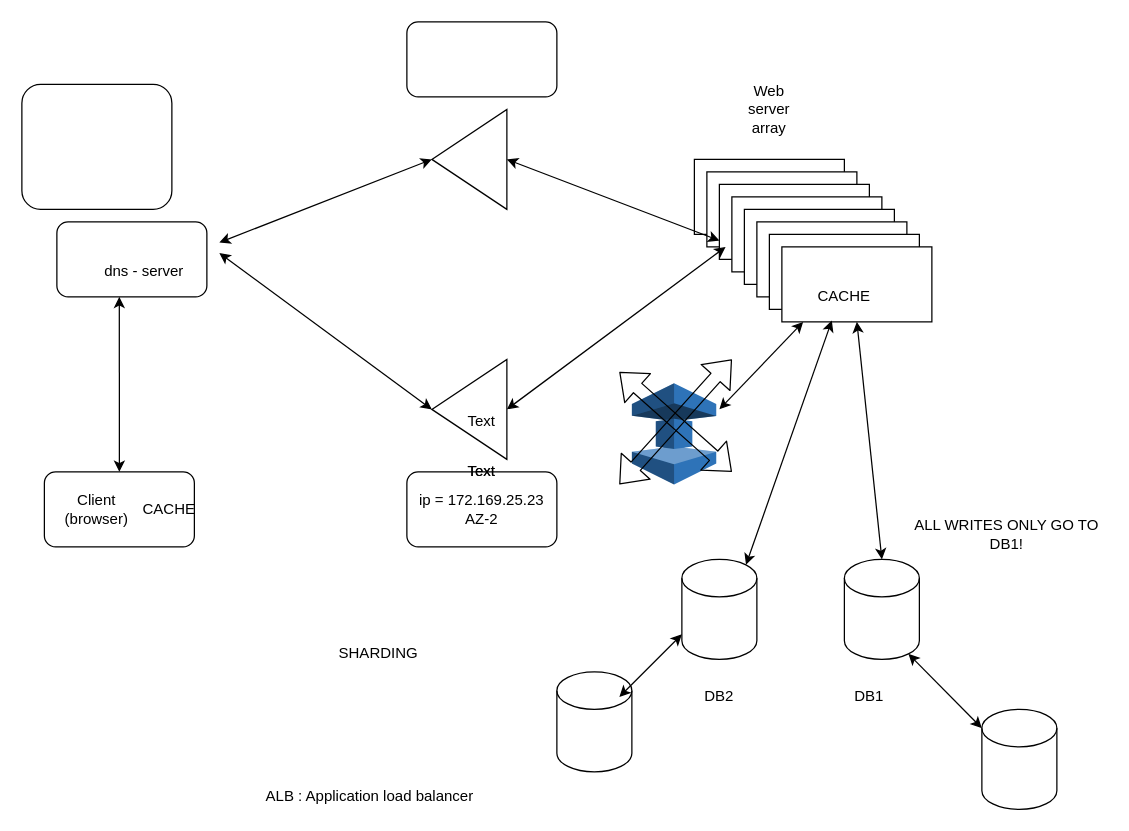
The diagram is 1129 pixels wide and 831 high, and some of its shapes have lost their labels. Each missing label, with the centre of its shape:
ip = 172.169.25.22 AZ-1: [481,59]
ip1 = 172.169.25.22 ip2 = 172.169.25.23 check_health = True: [96,146]
